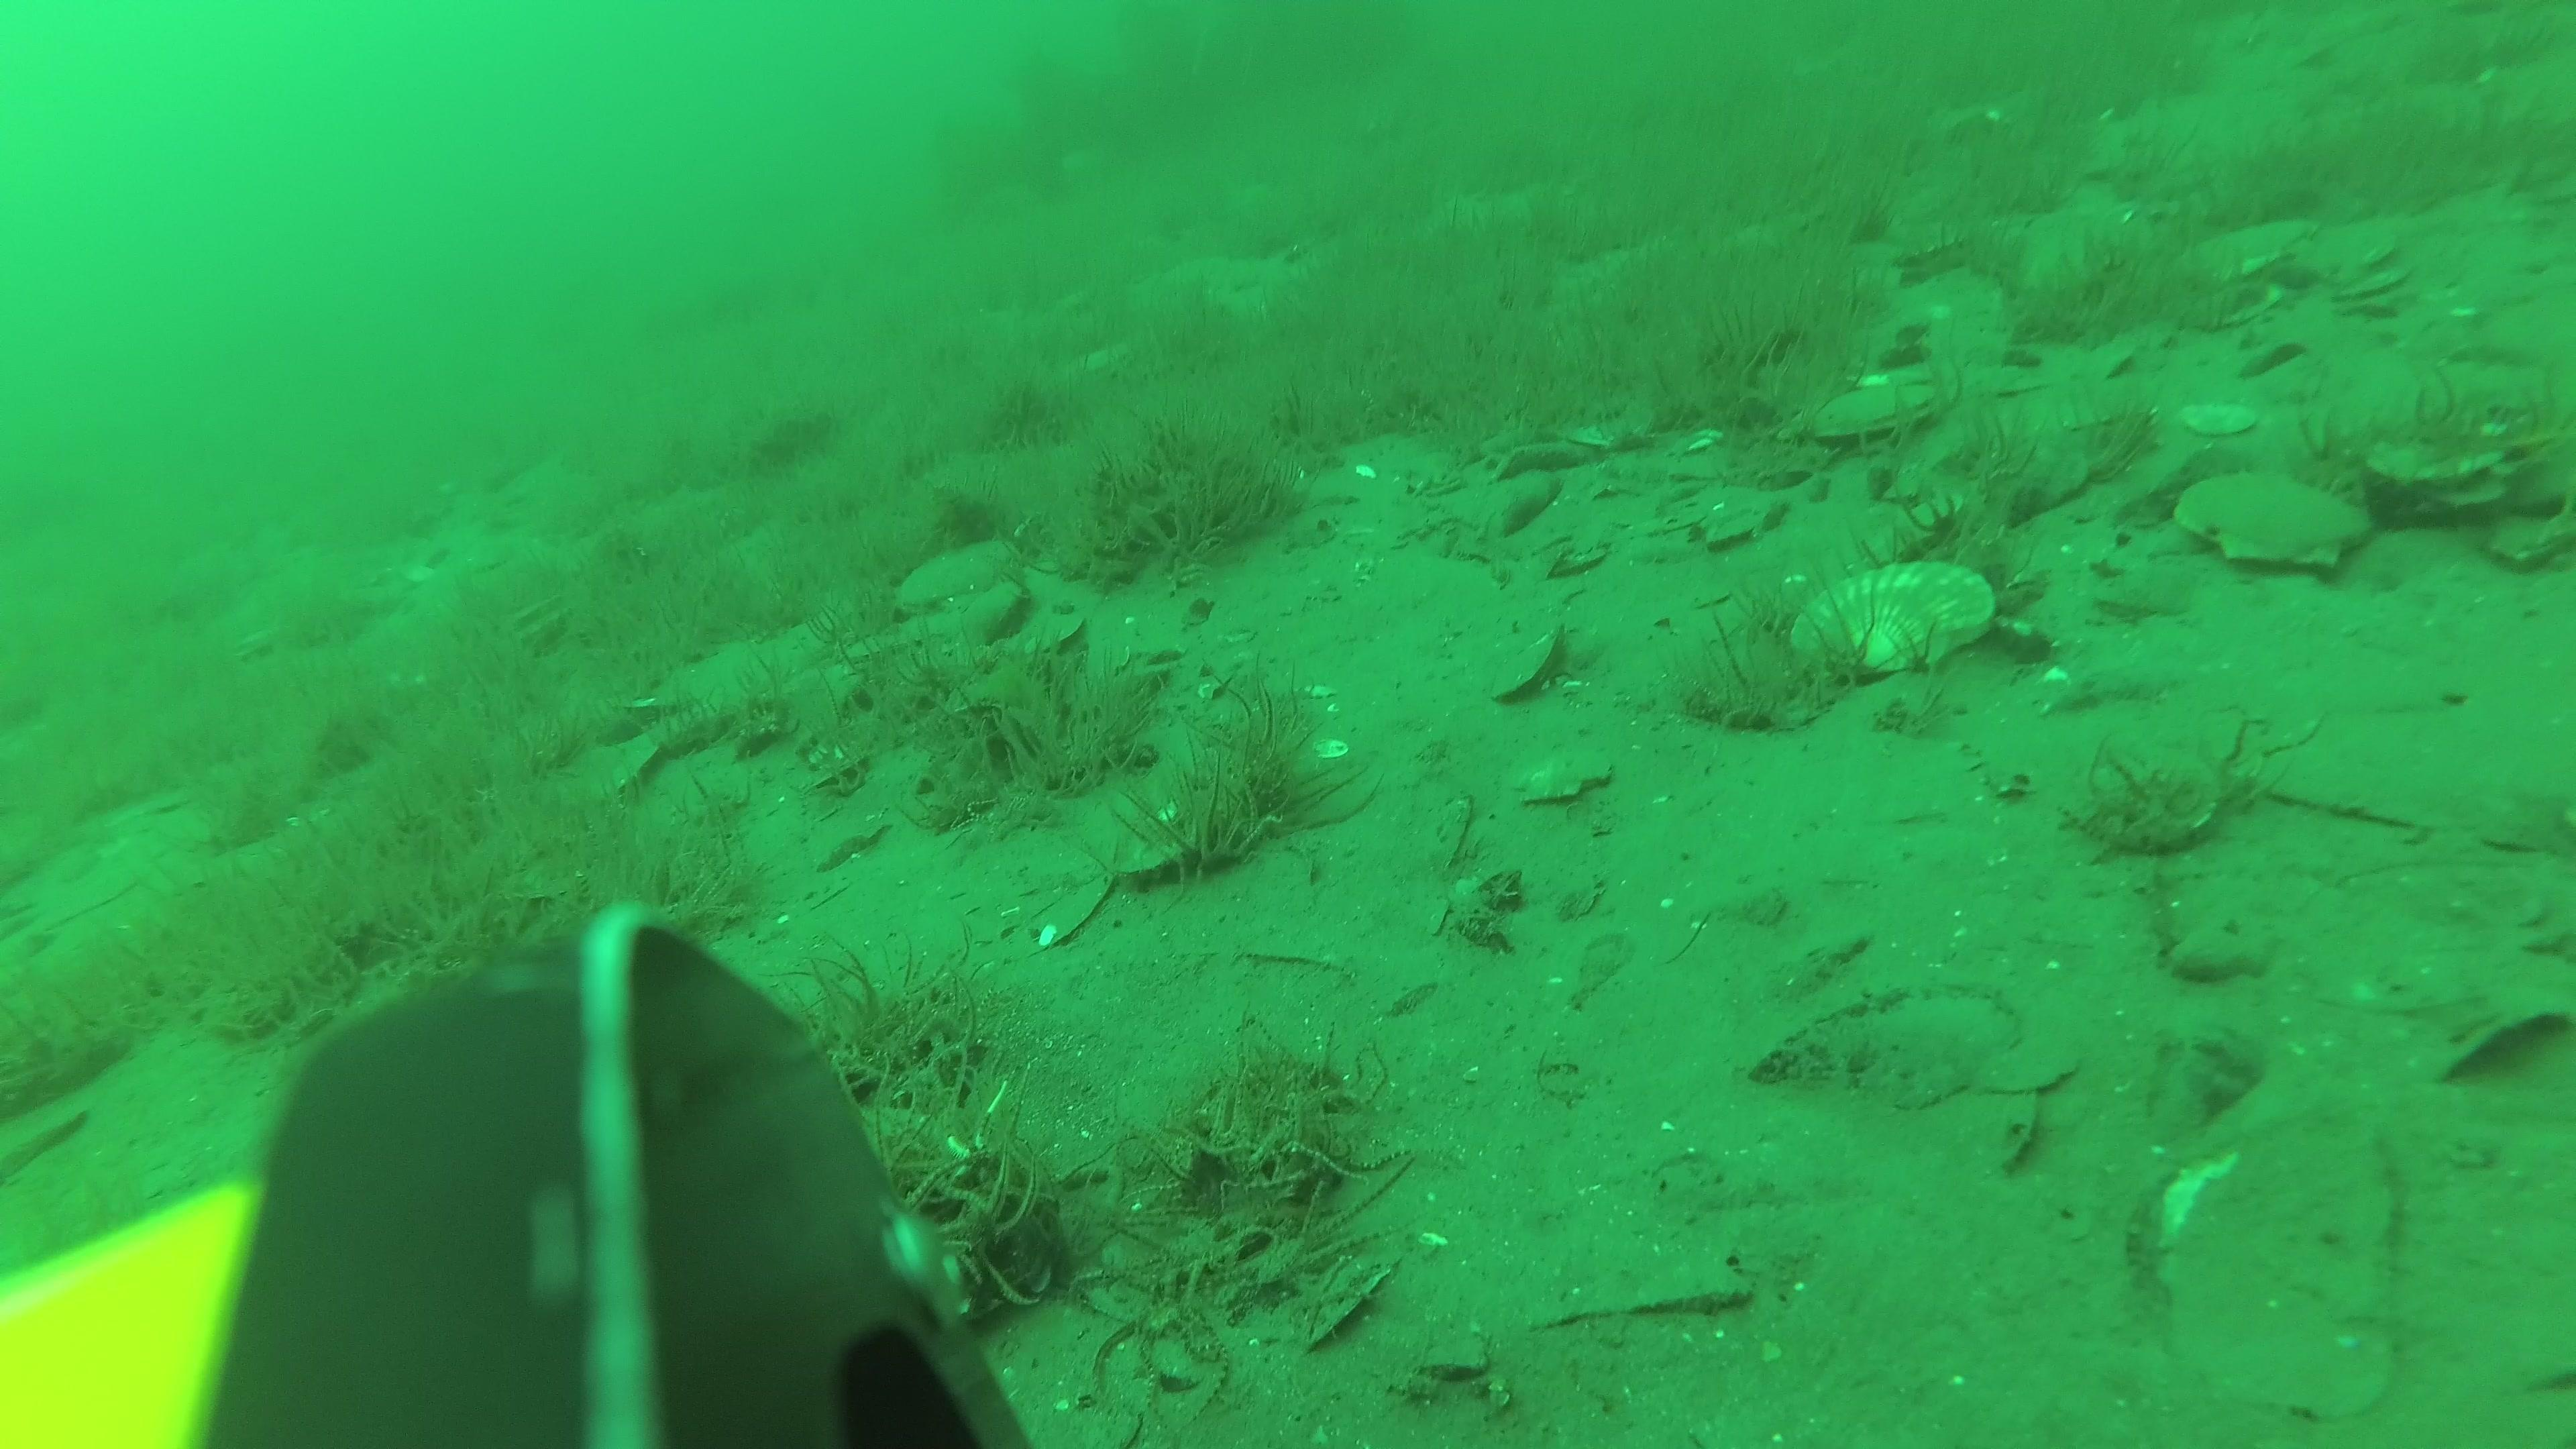scallop: (1783, 552, 2005, 688), (2169, 464, 2383, 579), (1974, 375, 2162, 472), (2167, 209, 2334, 292), (872, 536, 1033, 619), (1790, 377, 1951, 449), (1099, 801, 1203, 895), (1479, 621, 1568, 715), (1506, 741, 1621, 809), (943, 575, 1039, 651), (1677, 499, 1790, 557), (2328, 264, 2422, 317), (1010, 610, 1093, 663), (1969, 356, 2043, 414), (2173, 400, 2259, 439), (1545, 536, 1621, 580)
